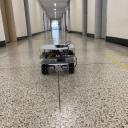cart: (38, 44, 76, 74)
